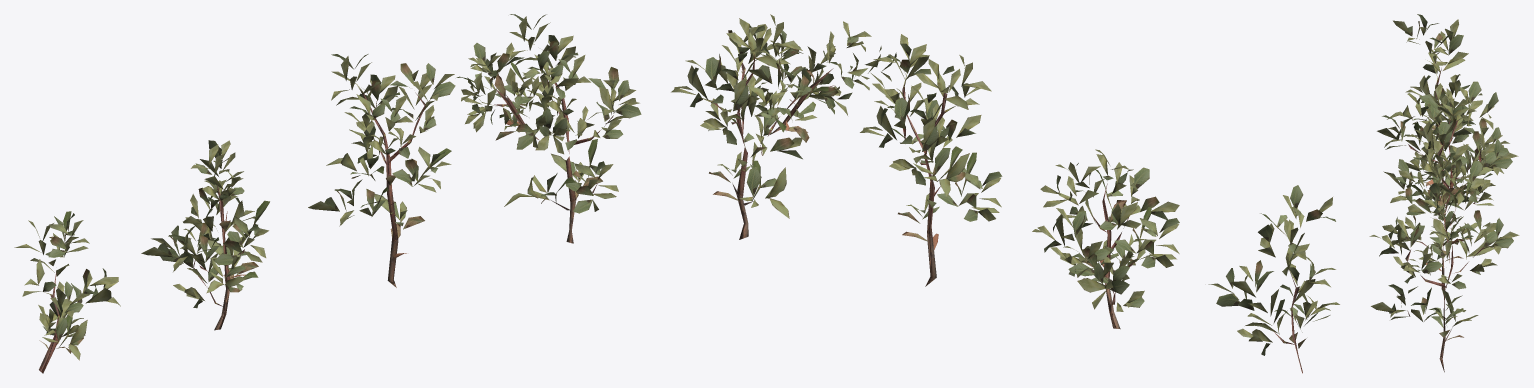
Rendered from shrub_04.glb.
3 renders of one model, left to right at view 1: azimuth 30°, elevation 25°; view 2: azimuth 150°, elevation 25°; view 3: azimuth 270°, elevation 25°, orthographic. The views are drawn at different scales.
Parts seen in each view (by area): view 1: shrub_04; view 2: shrub_04; view 3: shrub_04.
Boxes of the visible parts, <box> form: shrub_04: <box>14,14,641,373</box>; shrub_04: <box>671,14,1339,373</box>; shrub_04: <box>1369,14,1519,372</box>.
Bounding box in the file's own units: 0.5837 × 0.2185 × 0.1461.
1 material, 1 textured.
